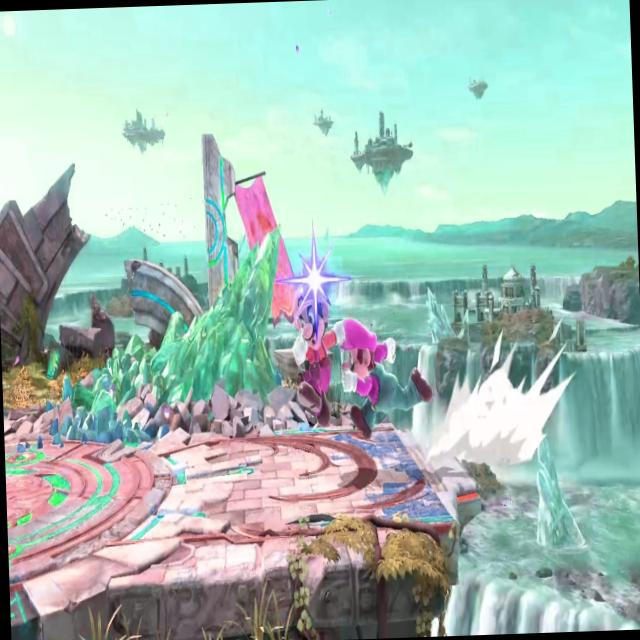Mario: (338, 309, 440, 444)
Mario-mad: (280, 274, 351, 436)
